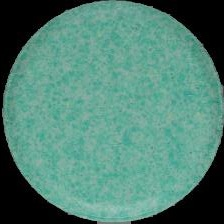21695-496: (0, 0, 224, 224)
